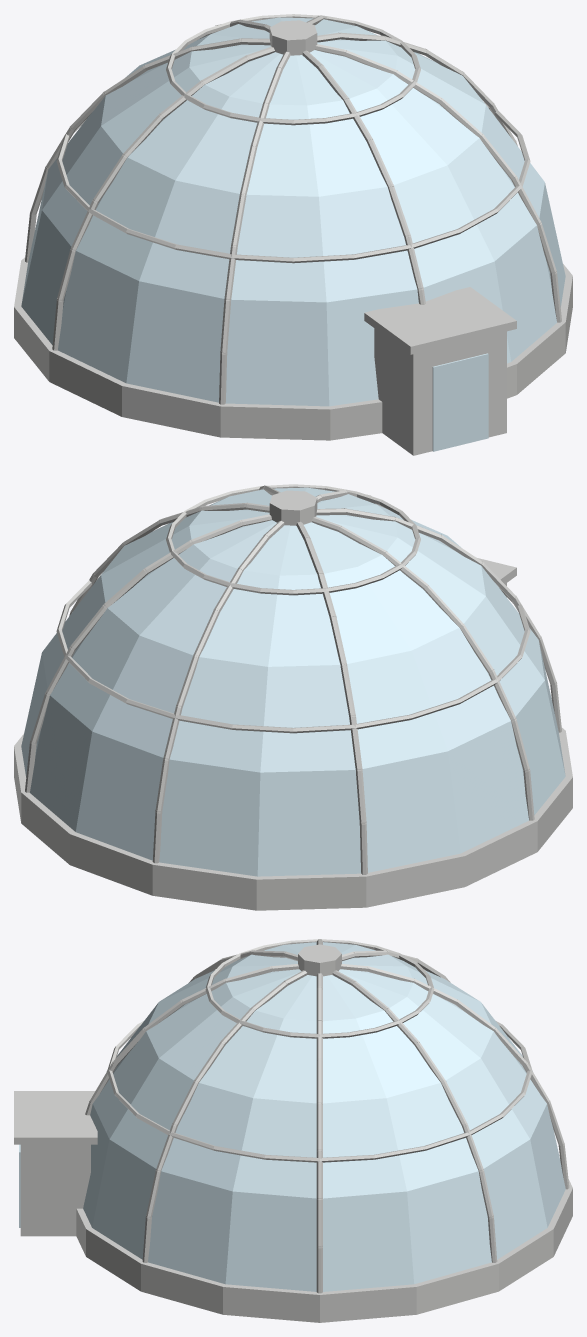
The model's file is VGreenhouse.fbx.
3 renders of one model, top to bottom at view 1: azimuth 30°, elevation 25°; view 2: azimuth 150°, elevation 25°; view 3: azimuth 270°, elevation 25°, orthographic. The views are drawn at different scales.
Parts seen in each view (by area): view 1: VGreenhouse; view 2: VGreenhouse; view 3: VGreenhouse.
Part boxes in pixels (box(x1,y1,x2,y2)): VGreenhouse: box(14, 14, 572, 455); VGreenhouse: box(14, 484, 572, 910); VGreenhouse: box(14, 939, 572, 1322).
Size of the model in its own units: 11.5 by 6.58 by 12.7.
